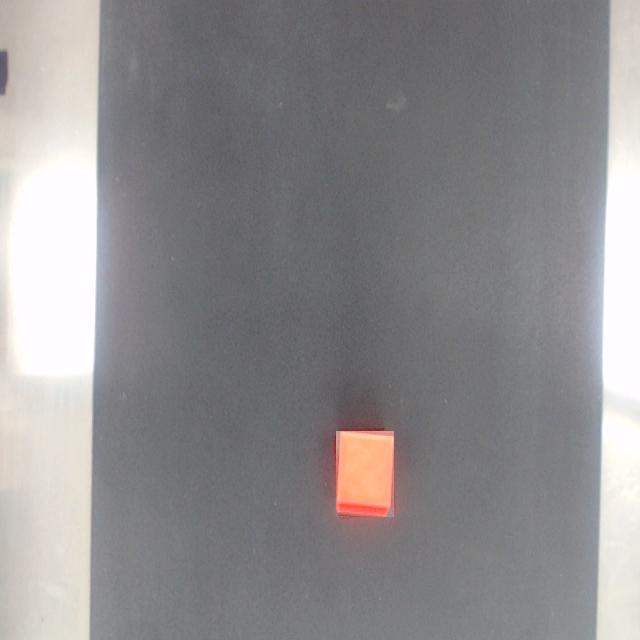Rojo: (336, 431, 394, 517)
